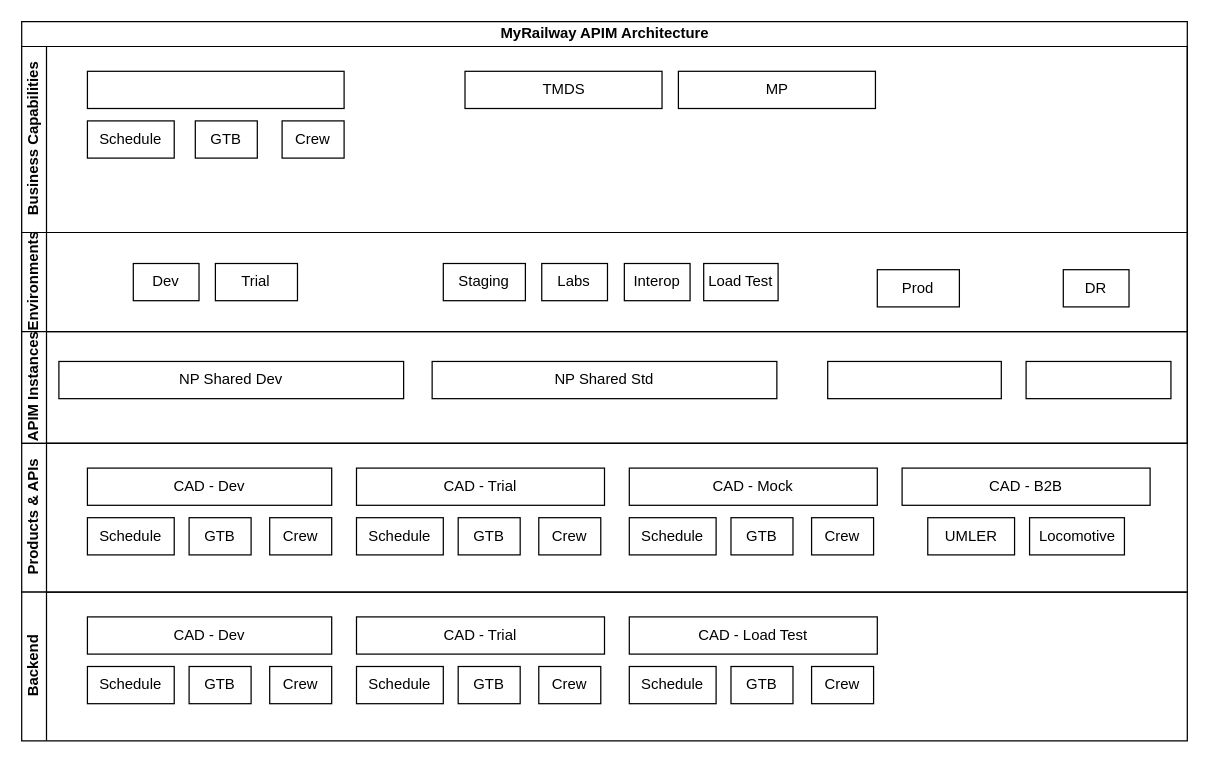
Image size: 1209x775. Some labels were removed from this diagram. The centre of each missing label's shape, as x and y in pixels:
"CAD" belongs at [215,89].
"DR Prem (US-E)" belongs at [1098,379].
"Prod Prem (US-SC)" belongs at [913,379].
